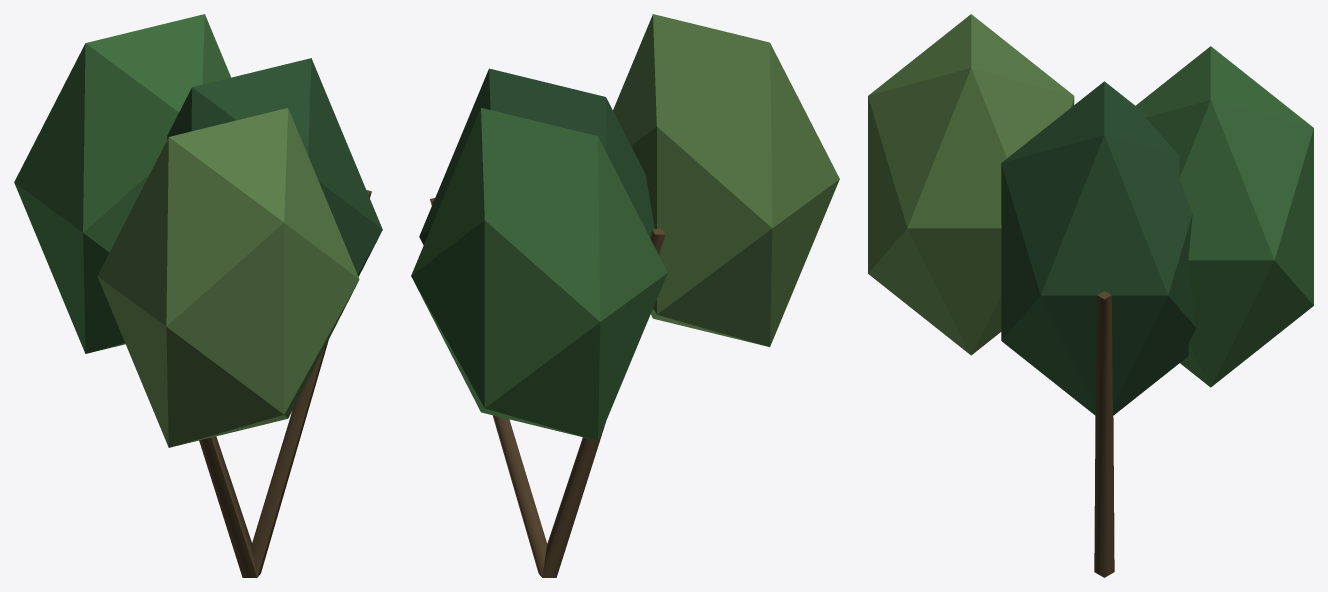
Rendered from shrub-spreading.far.glb.
3 renders of one model, left to right at view 1: azimuth 30°, elevation 25°; view 2: azimuth 150°, elevation 25°; view 3: azimuth 270°, elevation 25°, orthographic. The views are drawn at different scales.
Parts seen in each view (by area): view 1: foliage, wood; view 2: foliage, wood; view 3: foliage, wood.
Boxes of the visible parts, x1,y1,x2,y2 form: foliage: (14,14,382,447); wood: (199,190,371,577); foliage: (411,14,839,440); wood: (430,198,665,577); foliage: (868,14,1313,415); wood: (1094,291,1114,577).
Bounding box in the file's own units: 1.48 × 2.4 × 1.98.
